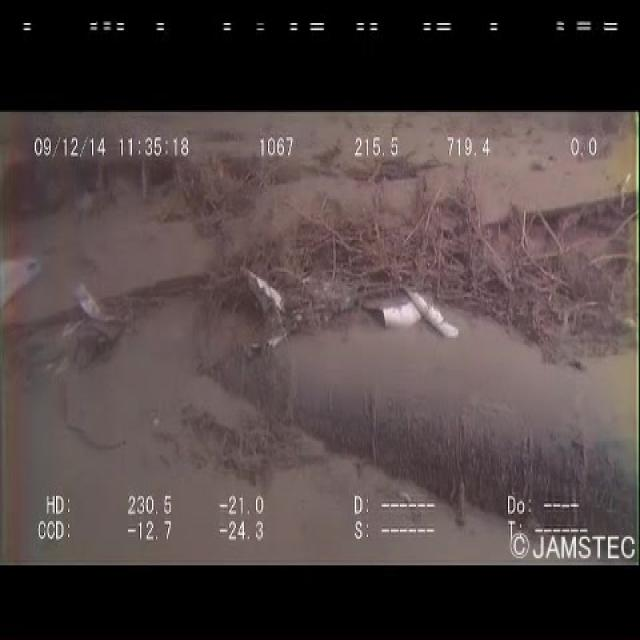plastic: (234, 258, 358, 357), (360, 272, 464, 354), (68, 278, 136, 334)
